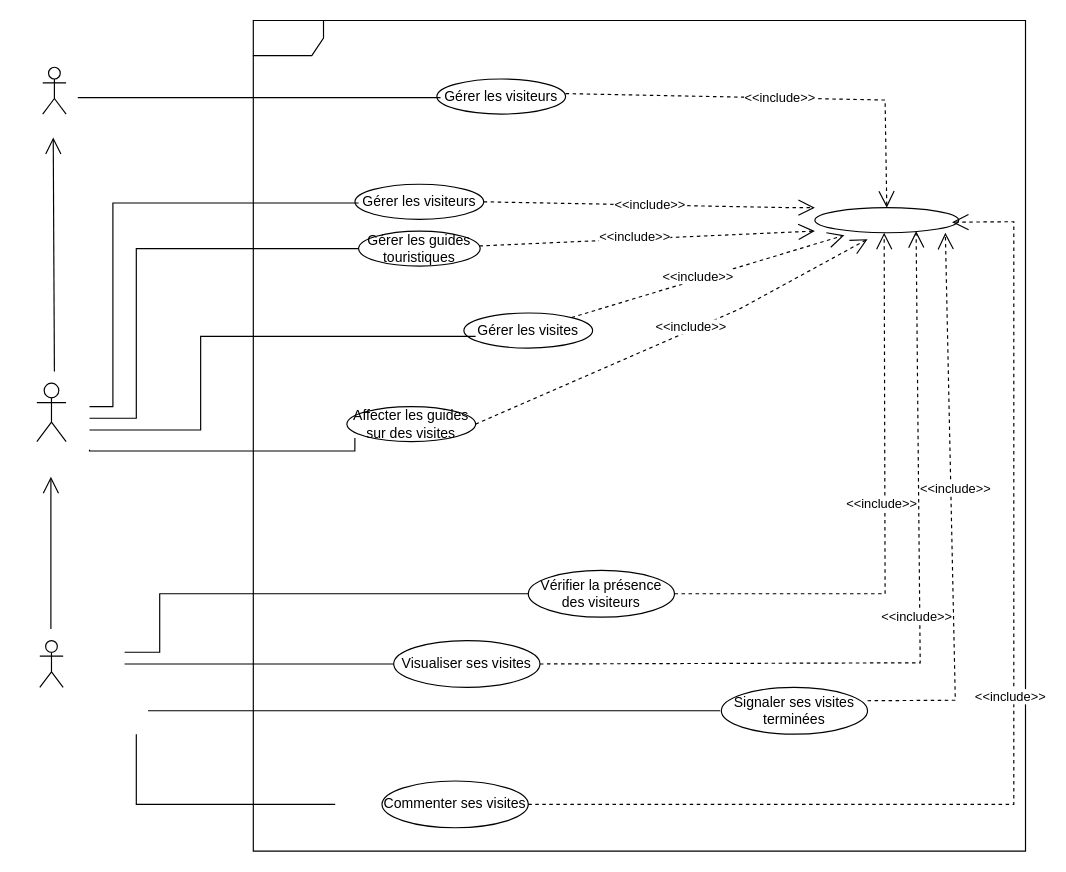
Image size: 1066x872. Some labels were removed from this diagram. The shapes that lost their labels are listed below. From the top down, each one's centre as x and y in pixels, then its label:
At (x=54, y=90): "Admin".
At (x=886, y=220): "s'authentifier".
At (x=51, y=412): "Utilisateur".
At (x=51, y=663): "Guide".
